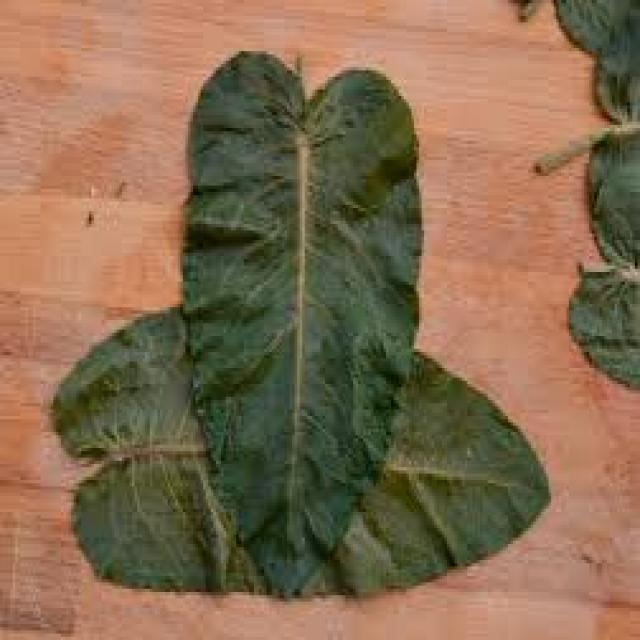organic waste: (122, 0, 556, 621), (8, 285, 579, 624)
